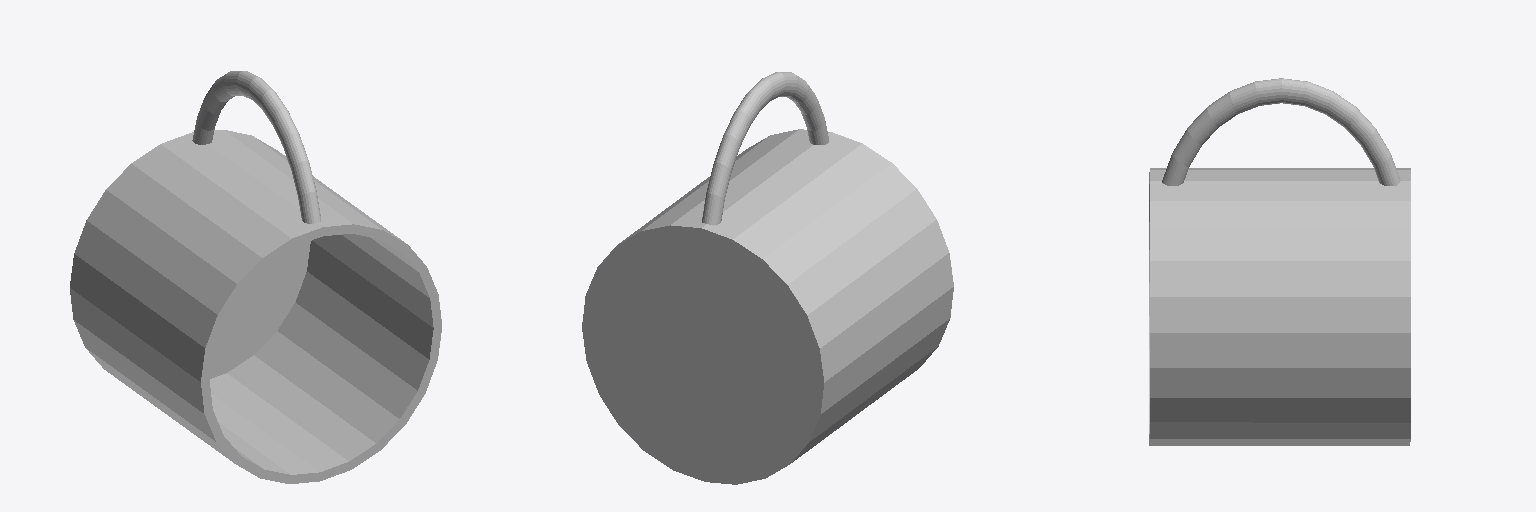
File: model_vcol.obj
3 views of the same model, side by side, from view 1: azimuth 30°, elevation 25°; view 2: azimuth 150°, elevation 25°; view 3: azimuth 270°, elevation 25° (orthographic).
Bounding box in the file's own units: 0.3573 × 0.5004 × 0.3341.